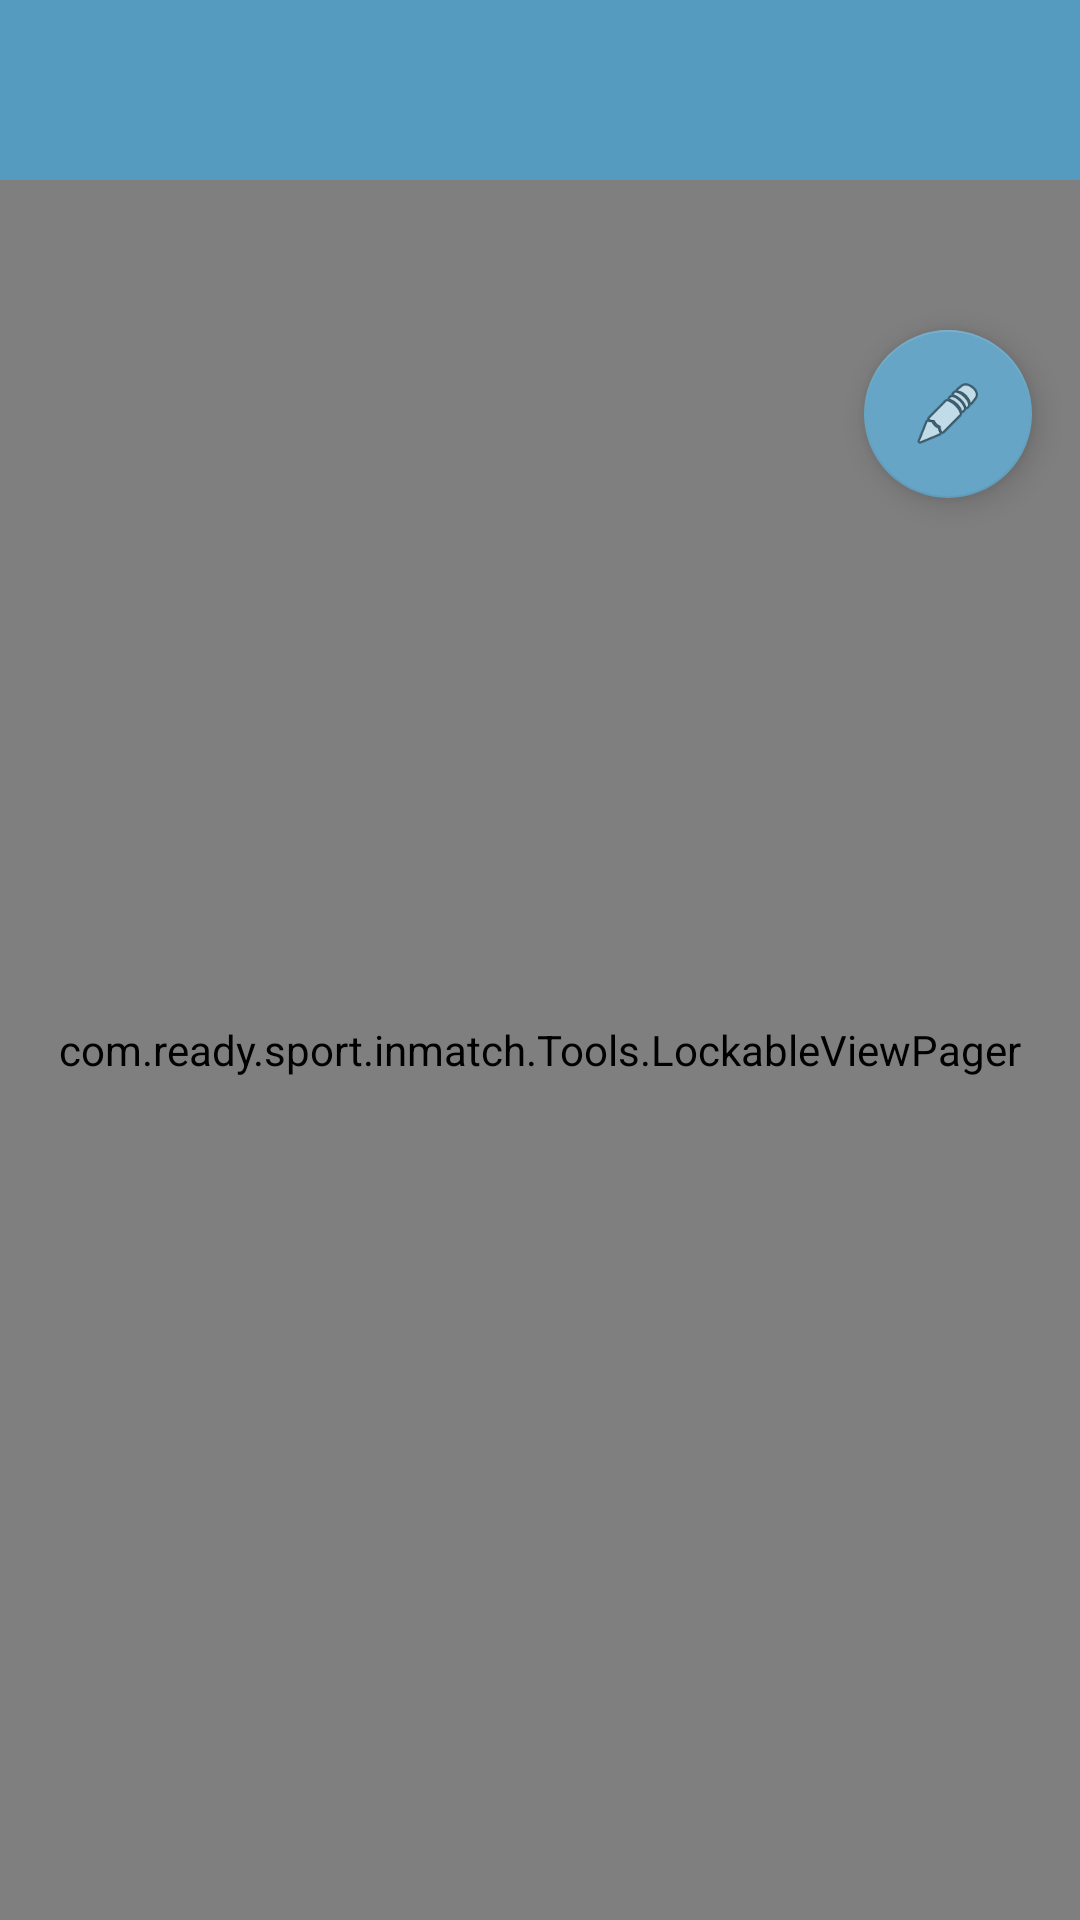

Icons on this 1080×1920 Android screen, each with its box as (x1, y1, x2, y2):
edit: (864, 330, 1032, 498)
